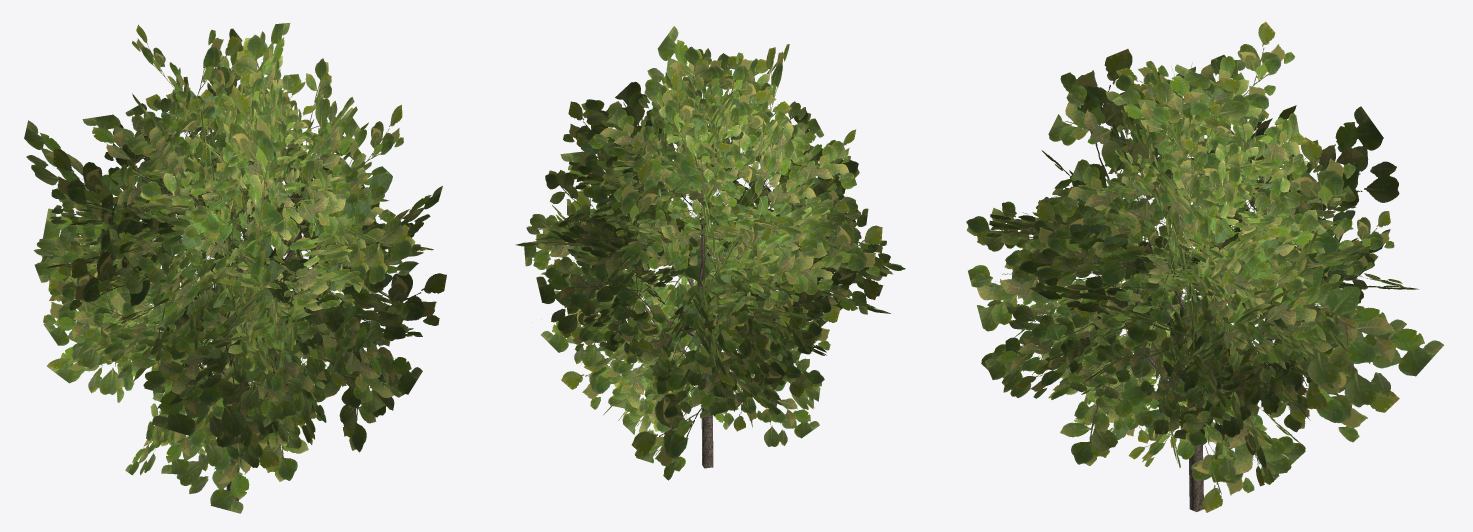
Rendered from tree_maple_v0_l1.glb.
3 views of the same model, side by side, from view 1: azimuth 30°, elevation 25°; view 2: azimuth 150°, elevation 25°; view 3: azimuth 270°, elevation 25° (orthographic). The views are drawn at different scales.
Parts seen in each view (by area): view 1: tree_maple_v0_l1; view 2: tree_maple_v0_l1; view 3: tree_maple_v0_l1.
Part boxes in pixels (x1,y1,x2,y2): tree_maple_v0_l1: (24,23,446,513); tree_maple_v0_l1: (516,26,905,480); tree_maple_v0_l1: (966,21,1443,512).
Size of the model in its own units: 10.38 by 12.5 by 11.82.
Materials: 2 (2 with a texture image).
